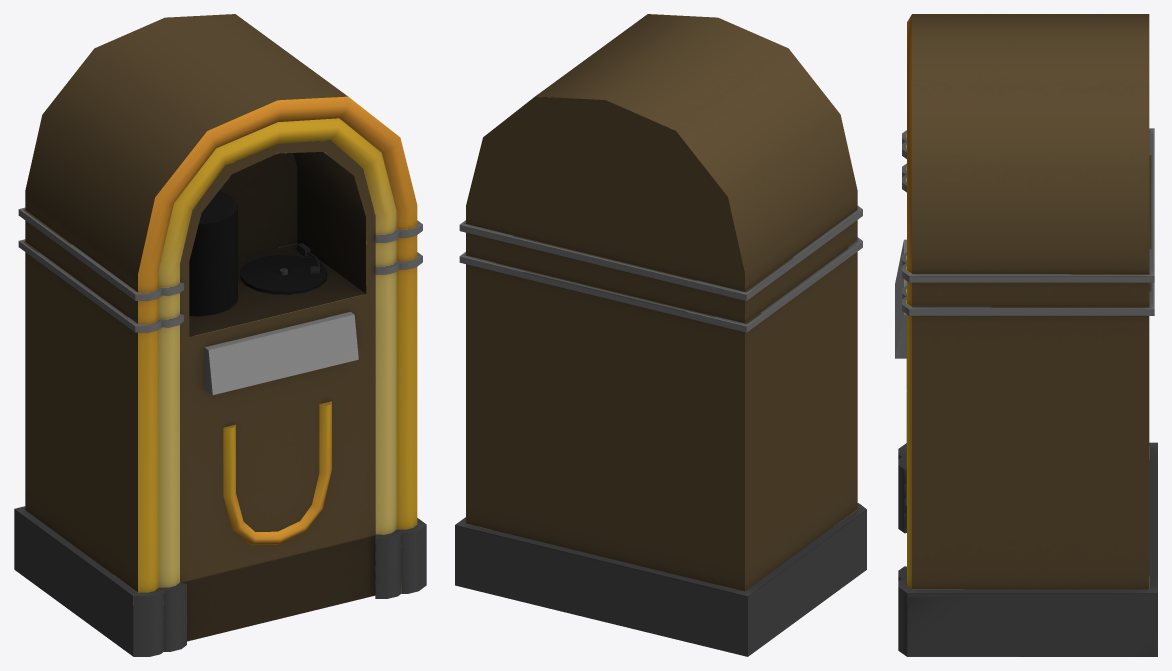
Rendered from Jukebox.gltf.
3 renders of one model, left to right at view 1: azimuth 30°, elevation 25°; view 2: azimuth 150°, elevation 25°; view 3: azimuth 270°, elevation 25°, orthographic. The views are drawn at different scales.
Visible parts, largest first — view 1: Jukebox; view 2: Jukebox; view 3: Jukebox.
Part boxes in pixels (x1=…): Jukebox: x1=14, y1=14, x2=426, y2=656; Jukebox: x1=455, y1=14, x2=866, y2=656; Jukebox: x1=895, y1=14, x2=1157, y2=656.
Size of the model in its own units: 2.1 by 3.55 by 1.55.
1 material, 1 textured.
